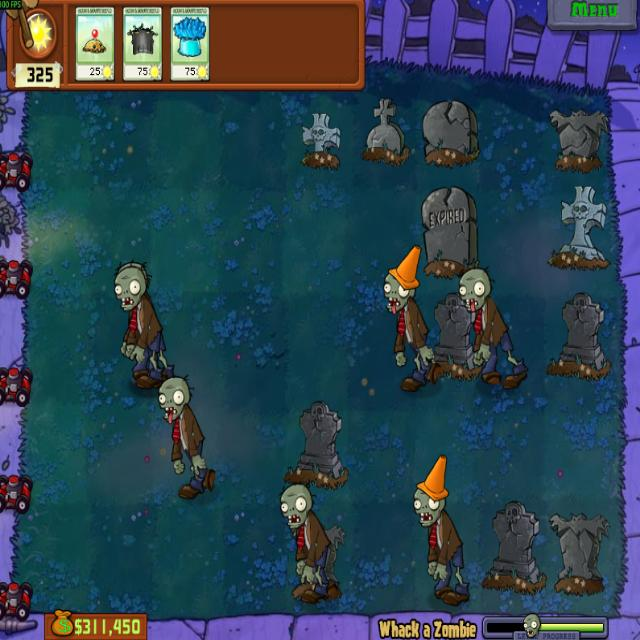conehead: (412, 452, 449, 530), (382, 246, 422, 316)
grave: (480, 502, 548, 594), (282, 398, 349, 489), (546, 292, 610, 382), (548, 507, 610, 598), (422, 185, 480, 280), (547, 184, 611, 270), (426, 292, 480, 382), (547, 100, 609, 175), (421, 98, 482, 168), (360, 93, 411, 165), (312, 517, 348, 598), (297, 108, 342, 169)
gravebuster: (122, 5, 163, 80)
zombie: (155, 374, 193, 422), (113, 261, 149, 310), (278, 482, 313, 531), (458, 266, 493, 314)
